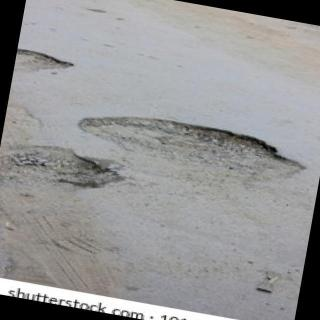pothole: (78, 117, 313, 184), (0, 146, 124, 188), (15, 48, 75, 76)
